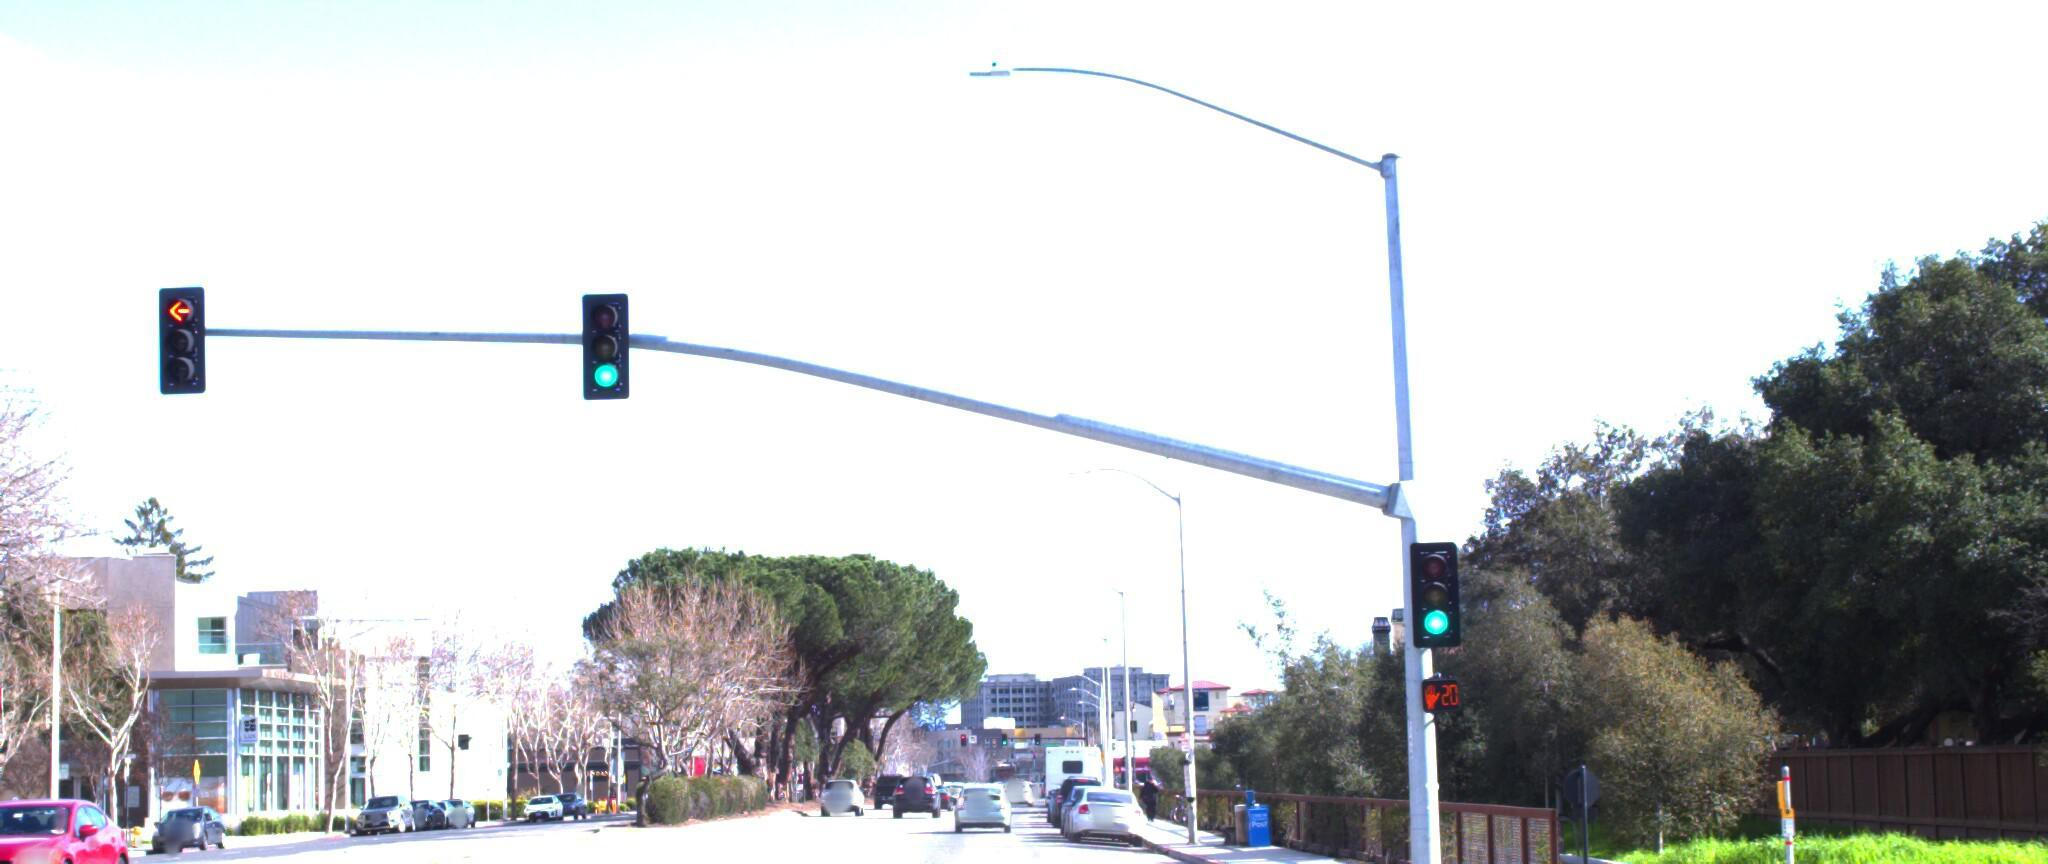car: (0, 784, 145, 864), (1055, 784, 1140, 843)
